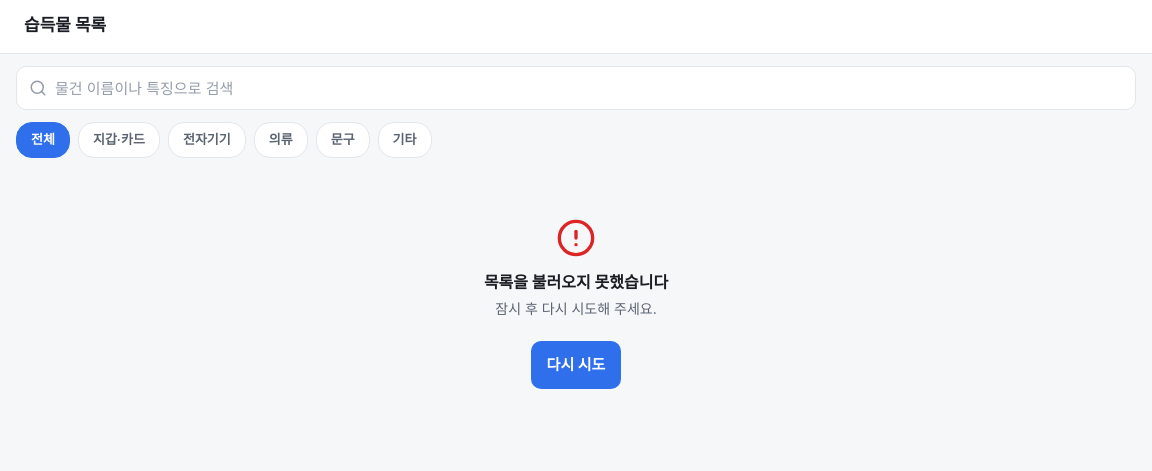
FoundListPage › 실패하면 오류 화면 — [다시 시도]로 다시 받는다
expect the text "목록을 불러오지 못했습니다" is shown: met, box [484, 270, 668, 294]
Click the button "다시 시도".
click(576, 365)  # box [531, 341, 621, 389]
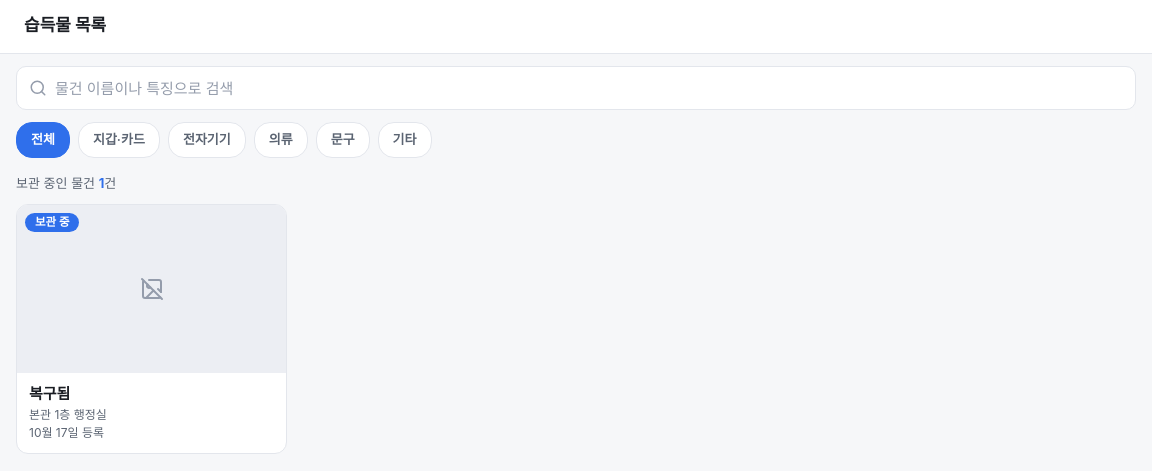
expect the text "복구됨" is shown: met, box [29, 384, 70, 403]
